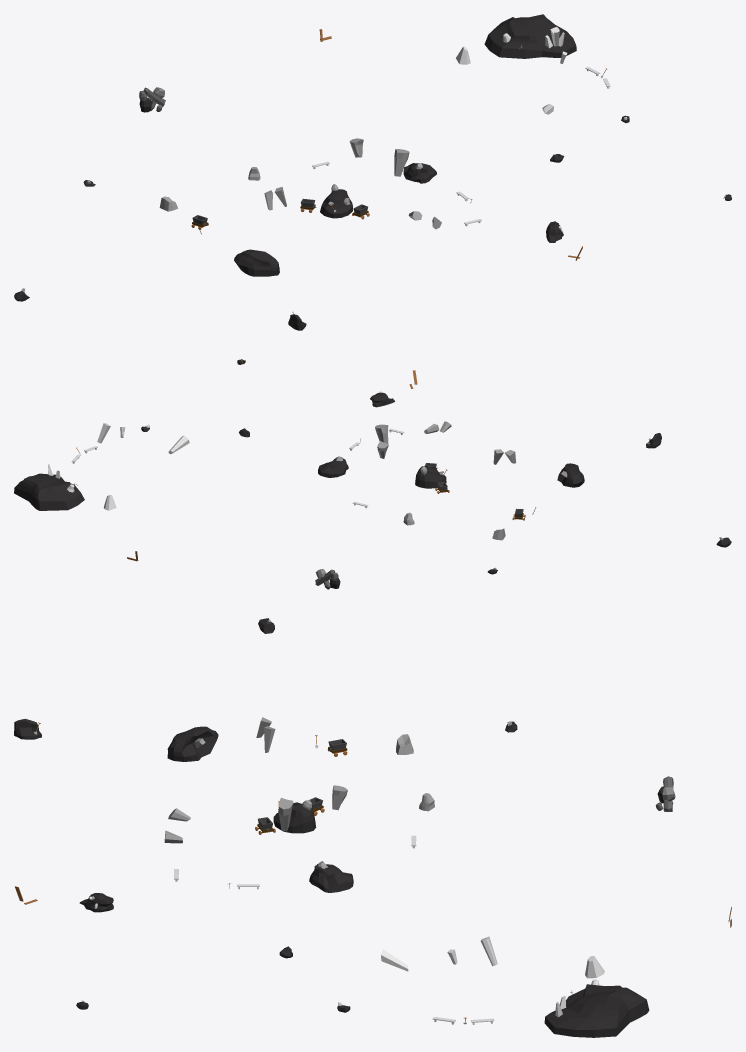
The model's file is Izkopanine.fbx.
3 renders of one model, top to bottom at view 1: azimuth 30°, elevation 25°; view 2: azimuth 150°, elevation 25°; view 3: azimuth 270°, elevation 25°, orthographic. The views are drawn at different scales.
Parts seen in each view (by area): view 1: Kup 3, Kup 2, Kup; view 2: Kup 3, Kup, Kup 2, Kup 1; view 3: Kup 3, Kup 2, Kup 1, Kup.
Boxes of the visible parts, bbox=[...] form: Kup 3: bbox=[484, 14, 576, 58]; Kup 2: bbox=[234, 249, 279, 276]; Kup: bbox=[320, 189, 352, 218]; Kup 3: bbox=[14, 473, 84, 510]; Kup: bbox=[415, 466, 446, 488]; Kup 2: bbox=[557, 463, 584, 487]; Kup 1: bbox=[318, 457, 348, 477]; Kup 3: bbox=[544, 984, 649, 1037]; Kup 2: bbox=[167, 726, 218, 761]; Kup 1: bbox=[309, 864, 353, 892]; Kup: bbox=[273, 802, 316, 833].
Size of the model in its own units: 6016 by 477 by 4442.
